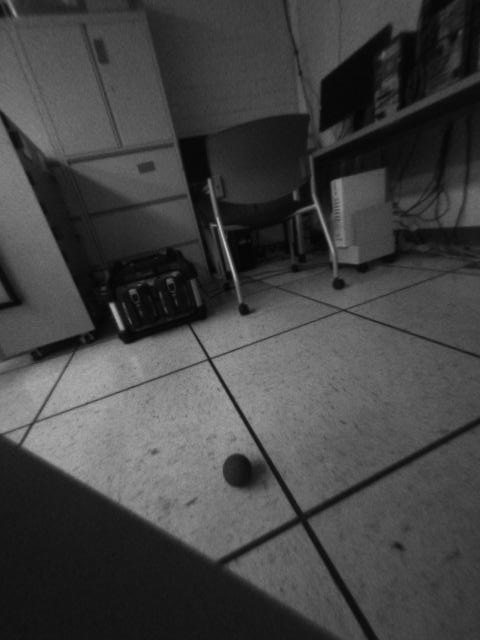dogtoy: (217, 445, 263, 493)
